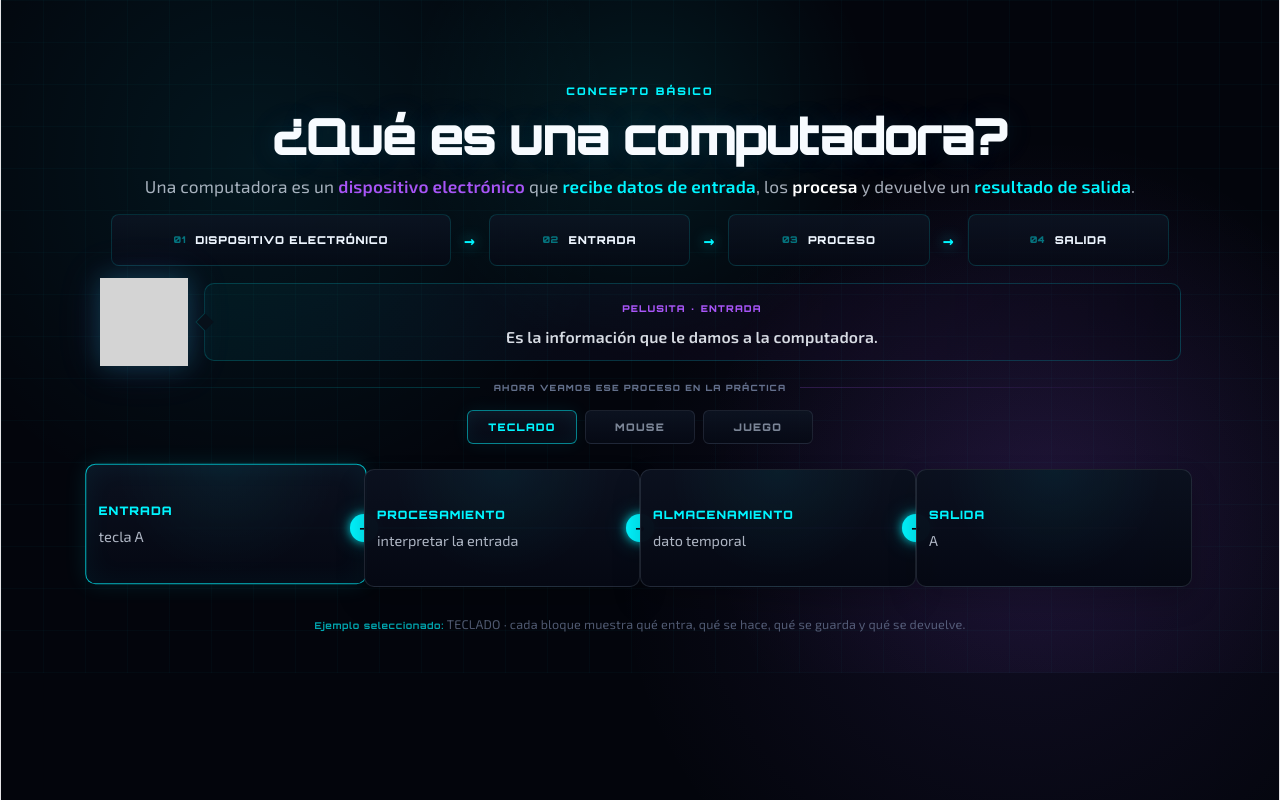
Test: Slide 08 concepto de computadora › permite ver el mismo proceso con distintos ejemplos
The width and height of the screenshot is (1280, 800).
Expected: the button "TECLADO" is shown, [467,410,577,444]
Expected: the button "JUEGO" is shown, [703,410,813,444]
Click the button "MOUSE" at (640,427), box [585,410,695,444]
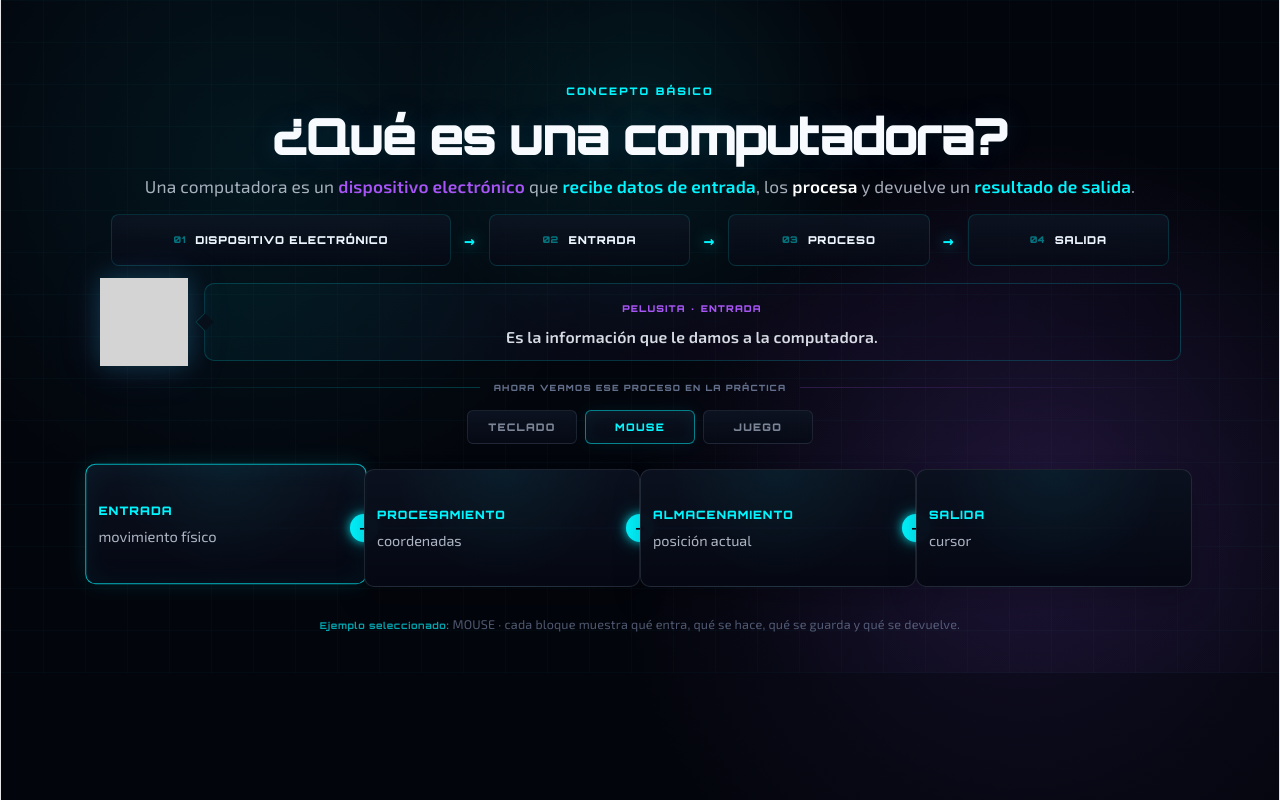
Expected: the text "movimiento físico" is shown, [98,528,217,546]
Expected: the text "coordenadas" is shown, [377,532,462,550]
Expected: the text "cursor" is shown, [929,532,971,550]
Click the button "JUEGO" at (758,427), box [703,410,813,444]
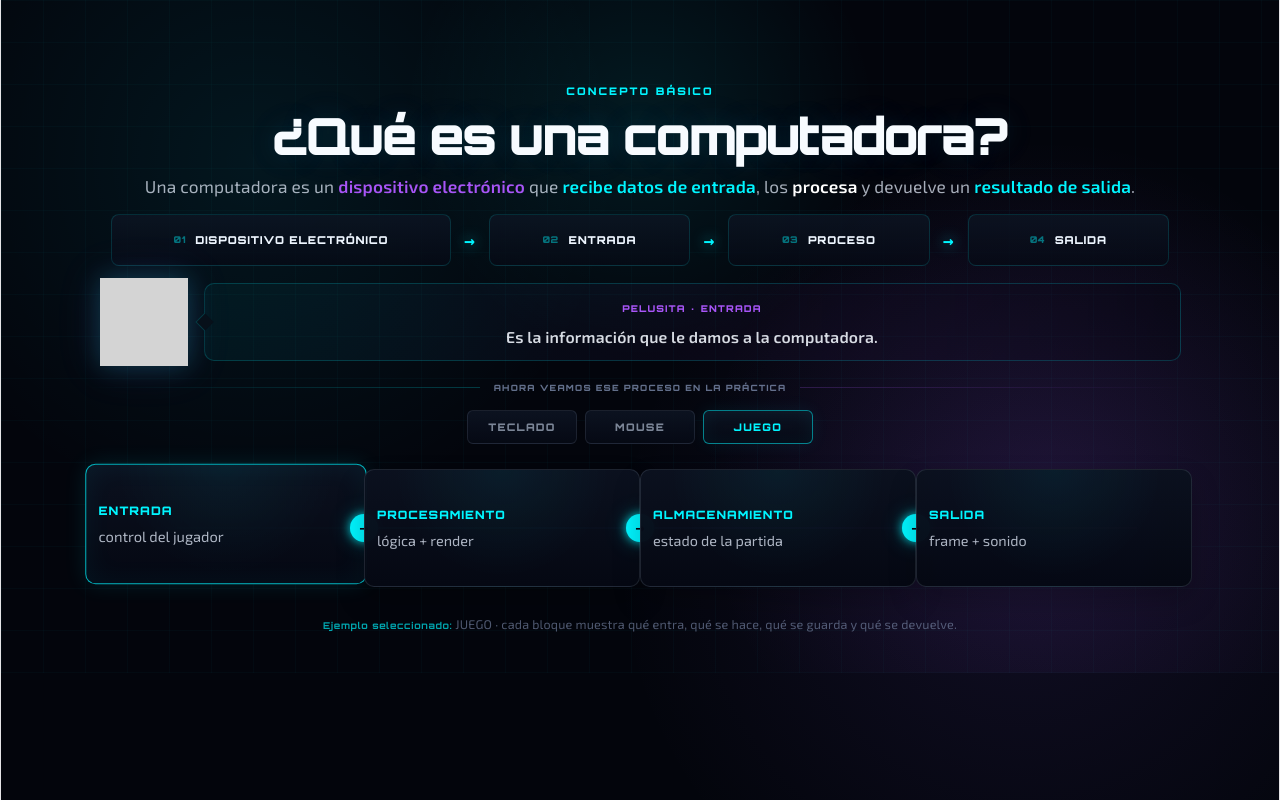
Expected: the text "control del jugador" is shown, [98,528,224,546]
Expected: the text "lógica + render" is shown, [377,532,474,550]
Expected: the text "frame + sonido" is shown, [929,532,1027,550]
